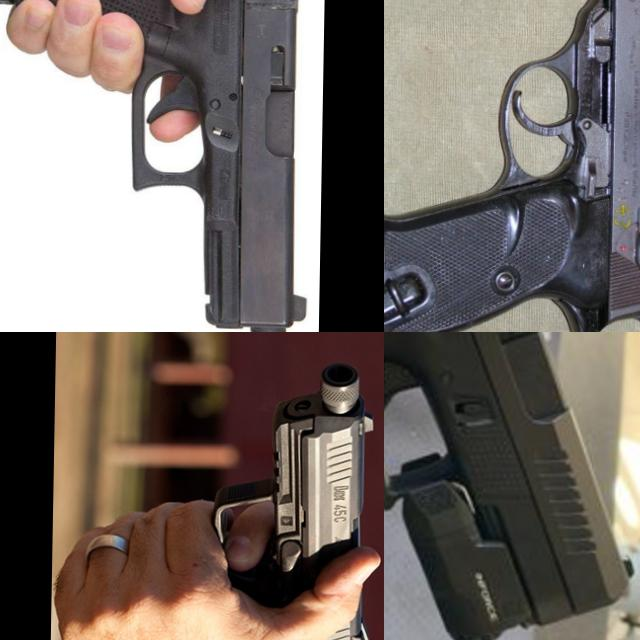handgun: (0, 0, 319, 332), (384, 0, 640, 332), (384, 332, 640, 640), (205, 354, 379, 640)
